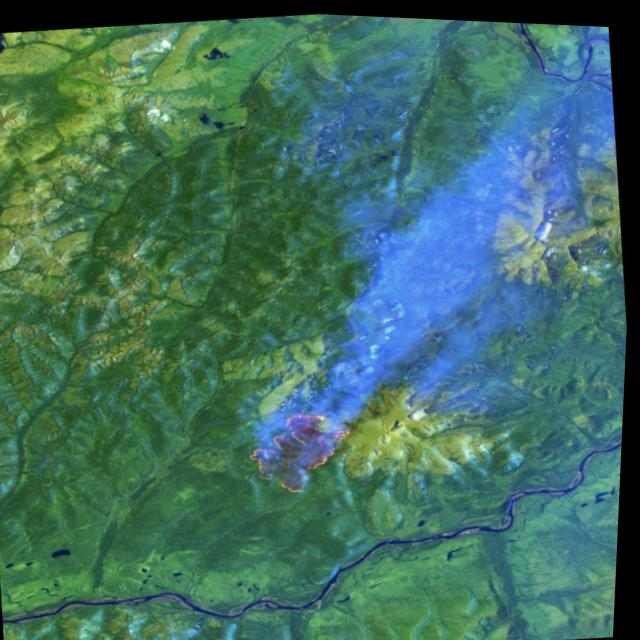fire: (237, 395, 366, 503)
